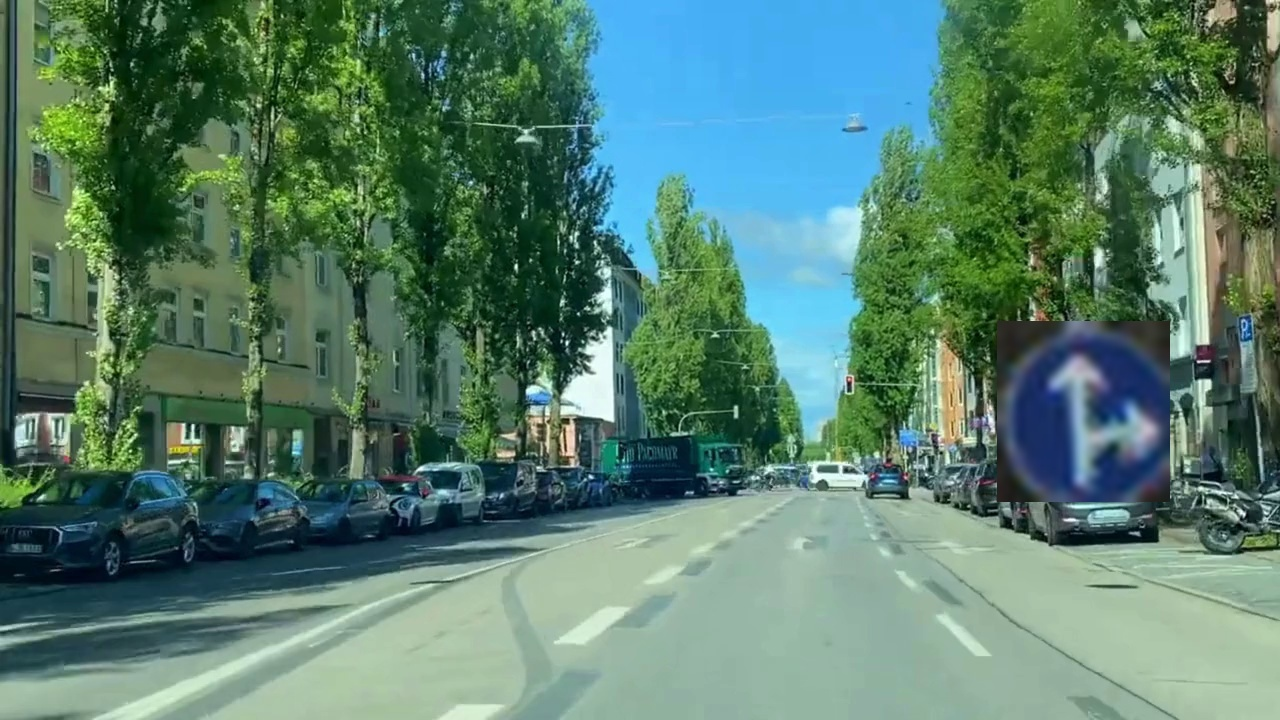Straight/right: (997, 321, 1170, 502)
